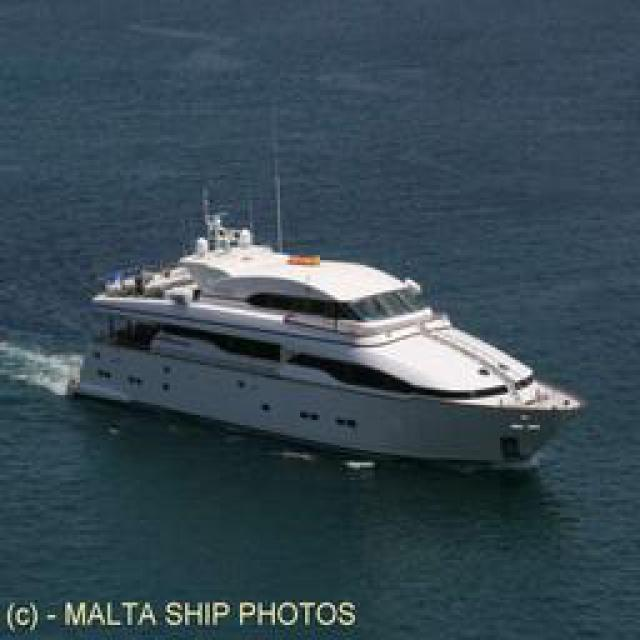Ship: (70, 225, 585, 478)
